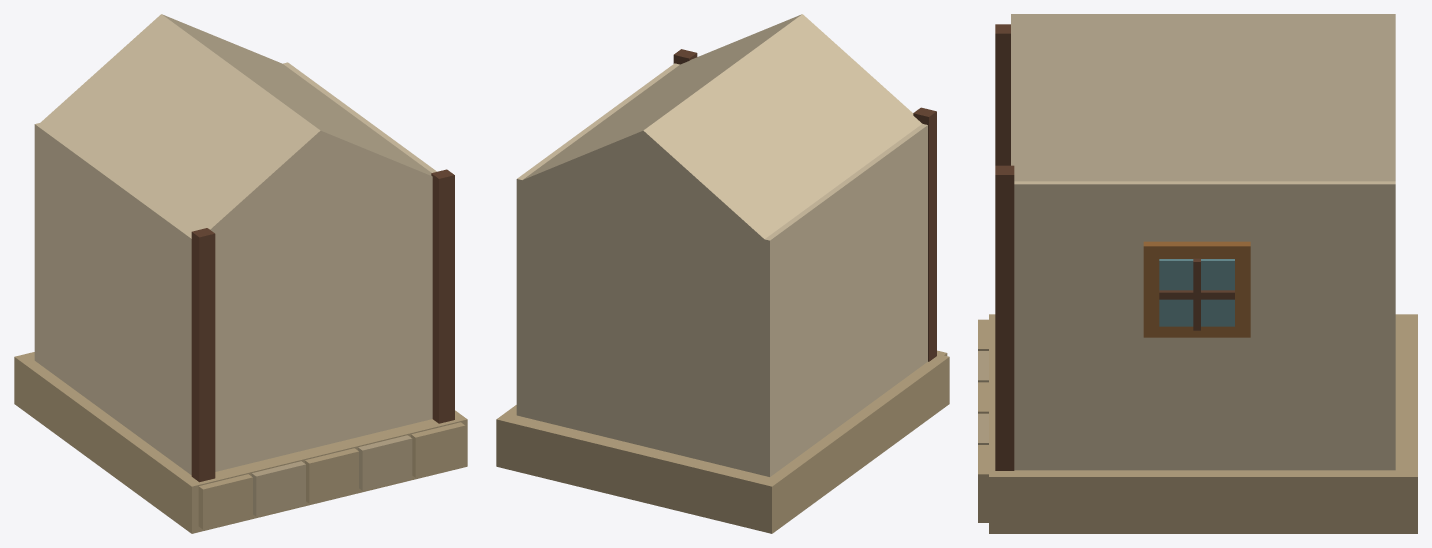
Rendered from module-shell.gltf.
3 renders of one model, left to right at view 1: azimuth 30°, elevation 25°; view 2: azimuth 150°, elevation 25°; view 3: azimuth 270°, elevation 25°, orthographic. The views are drawn at different scales.
Parts seen in each view (by area): view 1: module-shell; view 2: module-shell; view 3: module-shell.
Boxes of the visible parts, bbox=[...] form: module-shell: bbox=[14, 14, 467, 533]; module-shell: bbox=[496, 14, 949, 533]; module-shell: bbox=[978, 14, 1417, 533].
Size of the model in its own units: 1.24 by 1.53 by 1.39.
